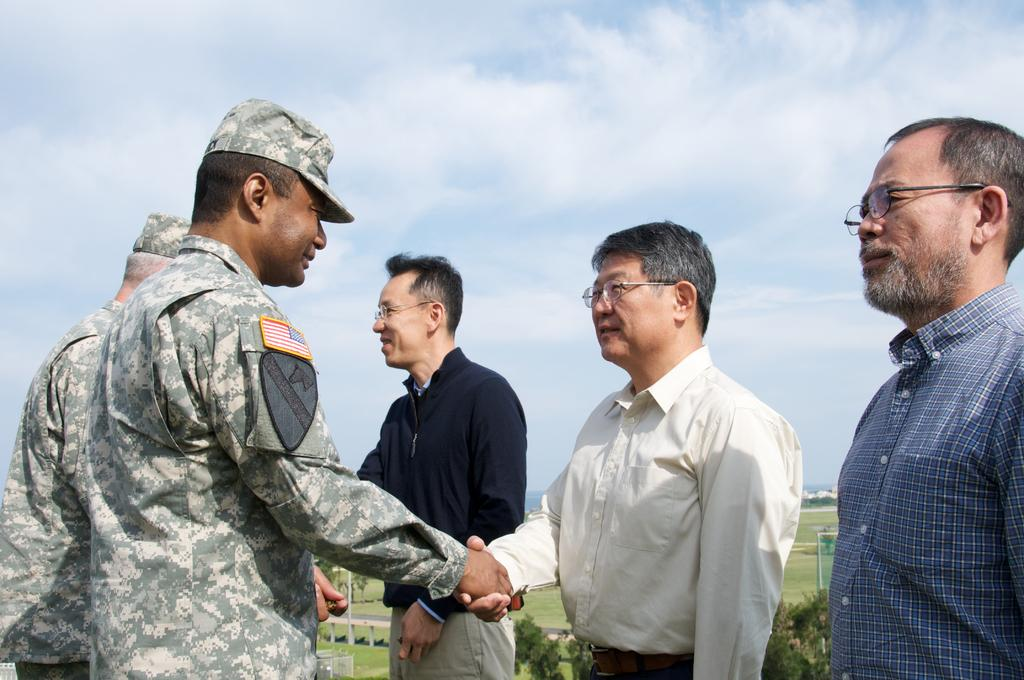Hat: (204, 96, 356, 221), (130, 210, 194, 260)
